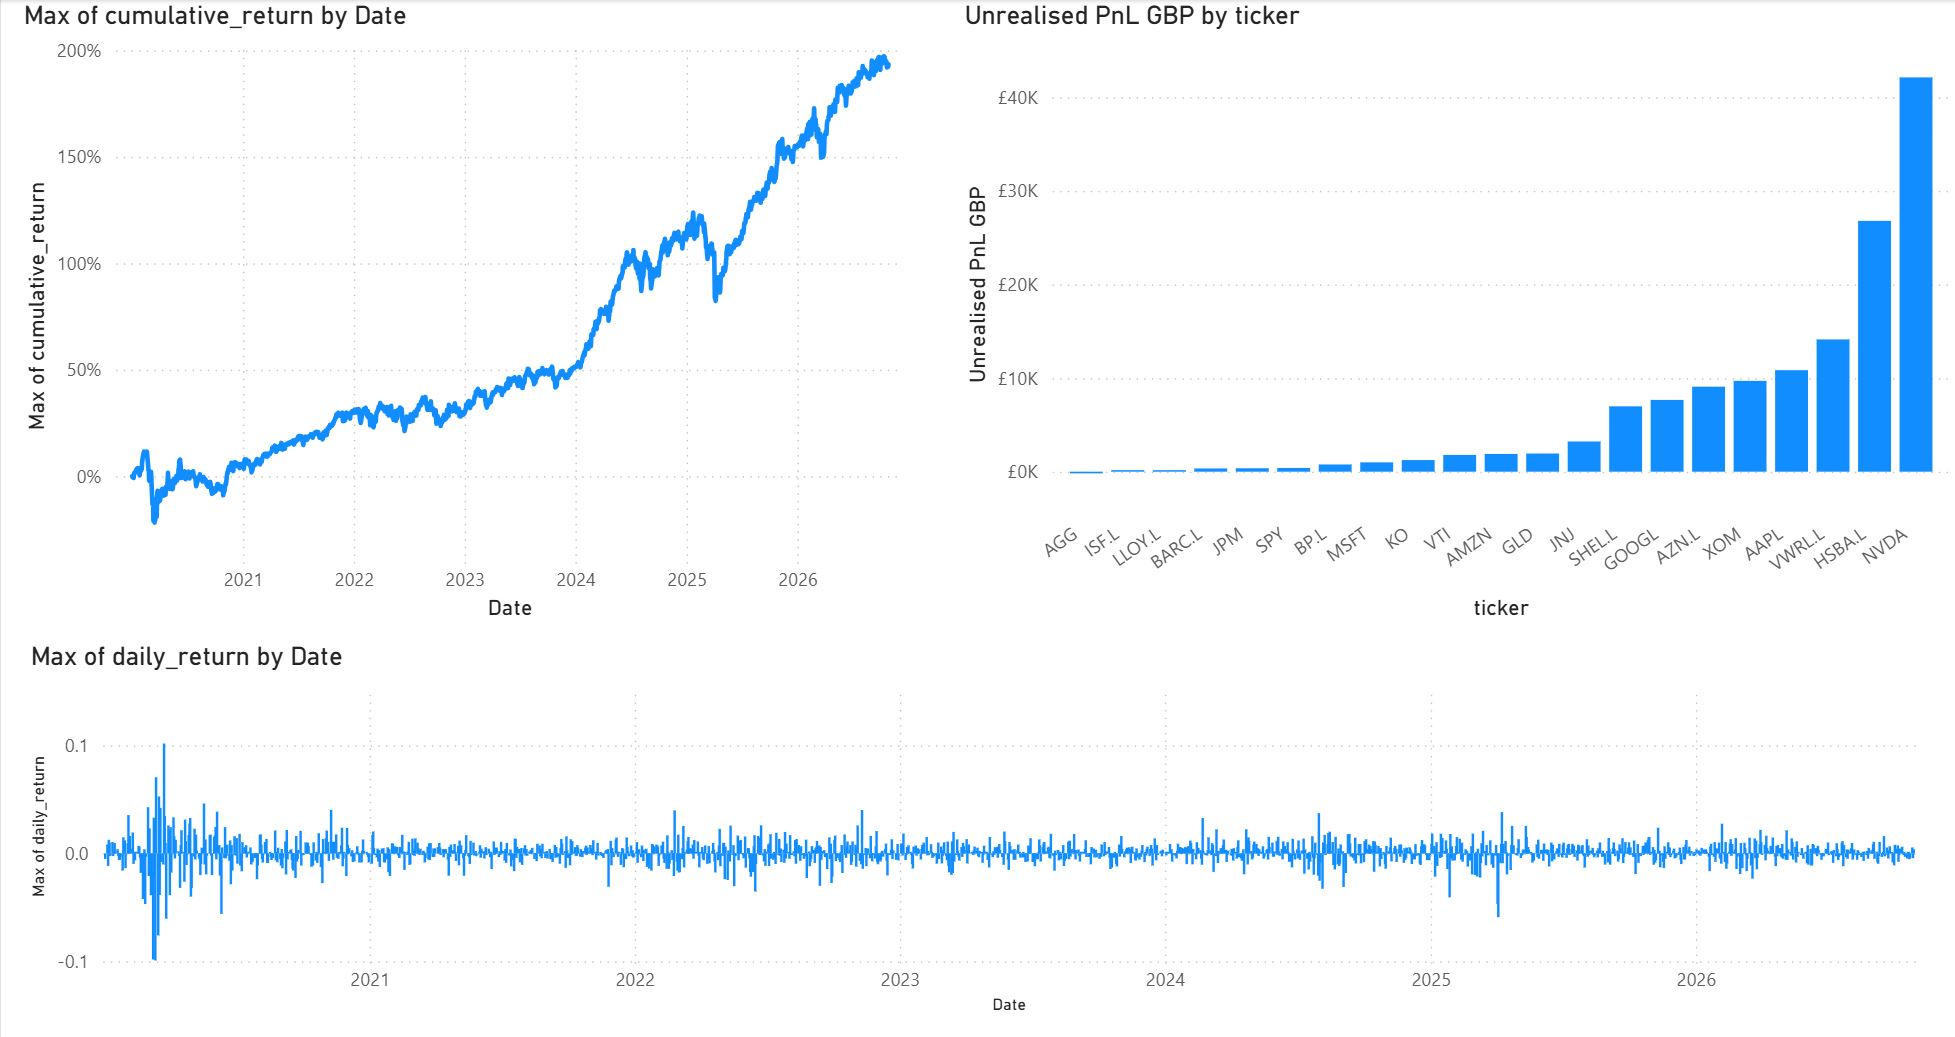

The dashboard page shown, as its layout file describes it:
{"tool":"powerbi","page":{"name":"Returns","canvas":[1280,720],"ordinal":1},"visuals":[{"type":"lineChart","fields":{"Category":["dim_calendar.Date"],"Y":["Max(portfolio_metrics.cumulative_return)"]},"box":[9.8,0,589,410.3],"z":0},{"type":"clusteredColumnChart","fields":{"Category":["dim_calendar.Date"],"Y":["Max(portfolio_metrics.daily_return)"]},"box":[14.4,419.5,1257.1,248.7],"z":1},{"type":"clusteredColumnChart","fields":{"Category":["positions_daily.ticker"],"Y":["_Measures.Unrealised PnL GBP"]},"box":[625.6,0,654.4,410.3],"z":2}]}

Visuals, with their boxes on the page's 1280x720 design canvas (x1, y1, x2, y2). These are canvas units, not pixel positions in the 1955x1037 screenshot, which may show the page scaled, cropped or inside an application window:
lineChart - dim_calendar.Date x Max(portfolio_metrics.cumulative_return): [x1=10, y1=0, x2=599, y2=410]
clusteredColumnChart - dim_calendar.Date x Max(portfolio_metrics.daily_return): [x1=14, y1=420, x2=1272, y2=668]
clusteredColumnChart - positions_daily.ticker x _Measures.Unrealised PnL GBP: [x1=626, y1=0, x2=1280, y2=410]
